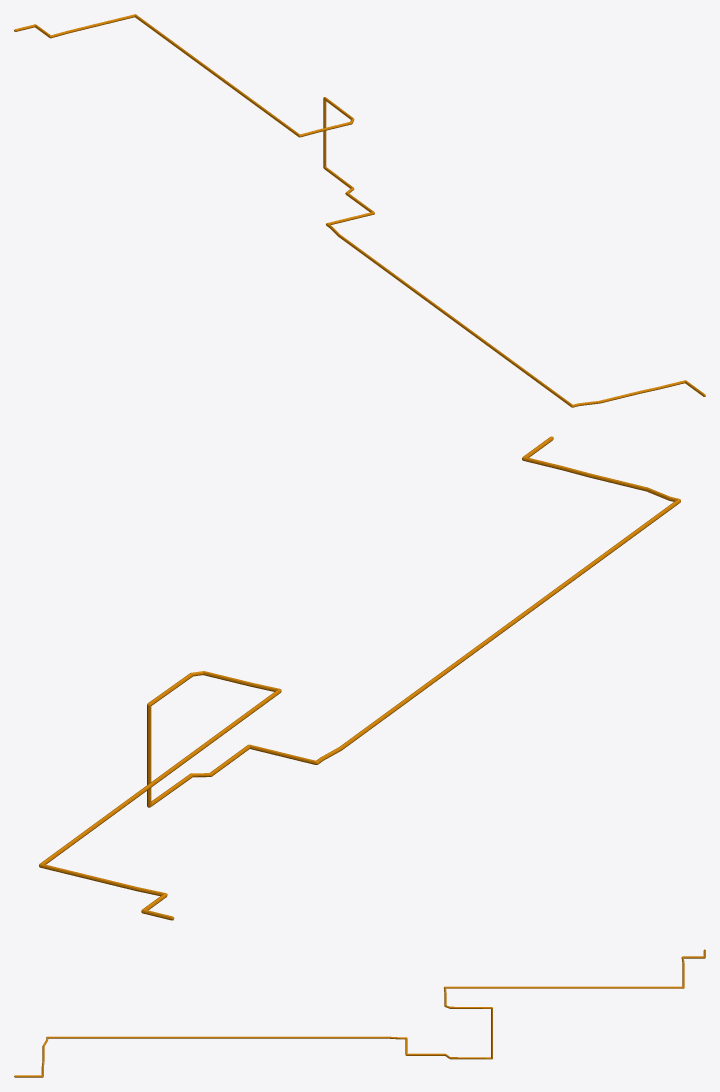
The picture shows the model from 3 angles, top to bottom: view 1: azimuth 30°, elevation 25°; view 2: azimuth 150°, elevation 25°; view 3: azimuth 270°, elevation 25°; orthographic projection. The views are drawn at different scales.
Size of the model in its own units: 1633 by 520 by 6232.
